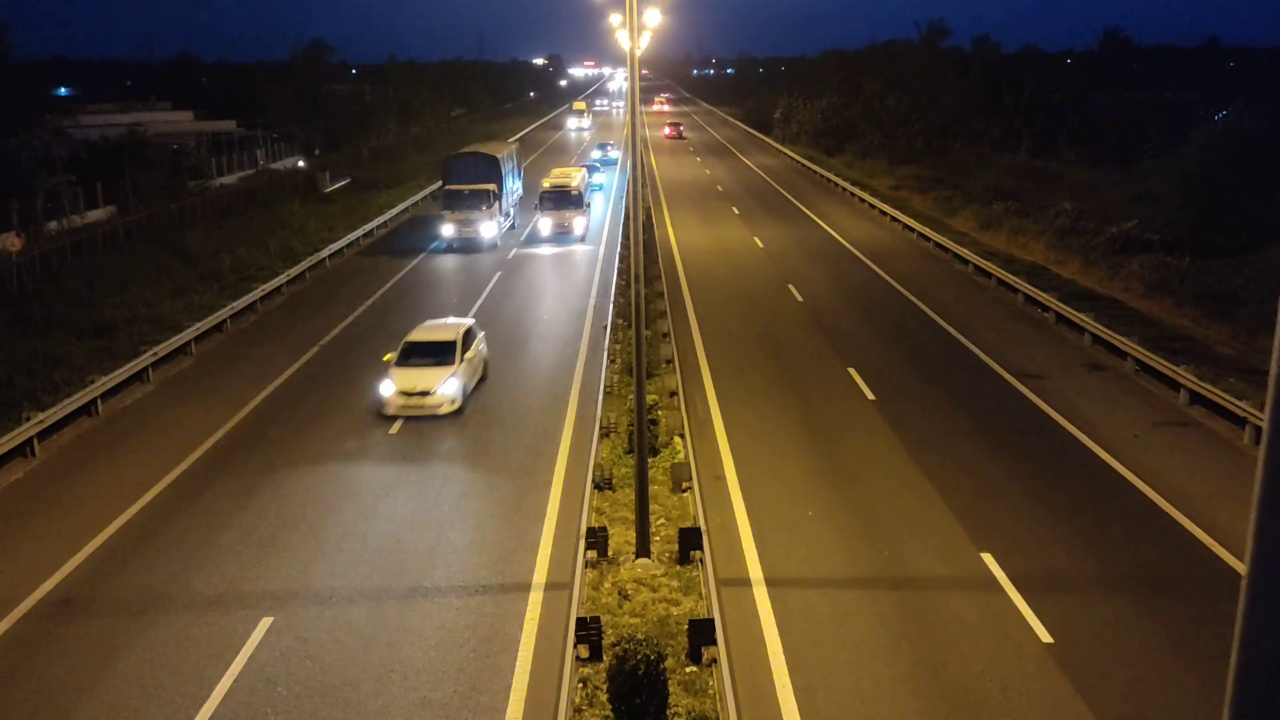bus: (536, 162, 595, 243)
car: (375, 315, 489, 417), (661, 121, 687, 140)
truck: (431, 133, 526, 254)
